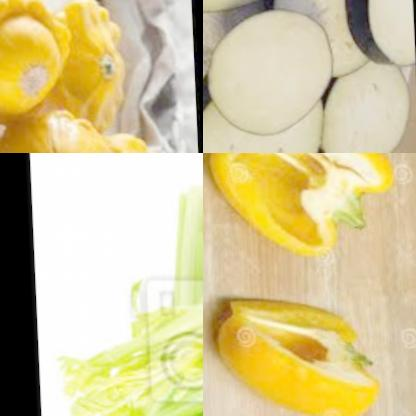bell pepper: (208, 290, 379, 416), (205, 153, 403, 258)
celery: (48, 246, 203, 416), (164, 163, 203, 416), (175, 180, 203, 331)
eggplant: (207, 11, 337, 136), (255, 0, 380, 84), (203, 68, 325, 153), (313, 53, 416, 153), (337, 0, 413, 71)
squash-patisson: (43, 0, 137, 145), (0, 0, 77, 130), (0, 106, 113, 153)
